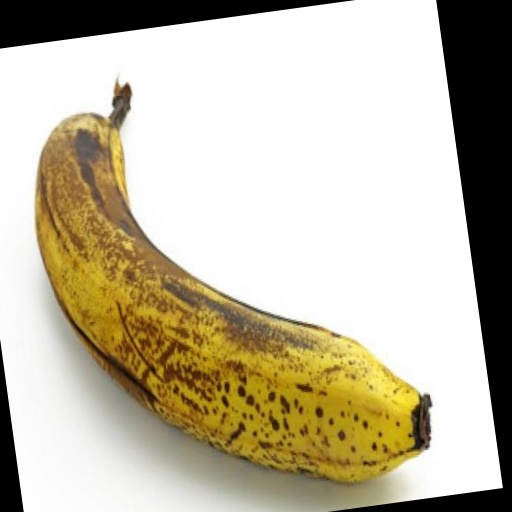fruit: (35, 84, 429, 482)
